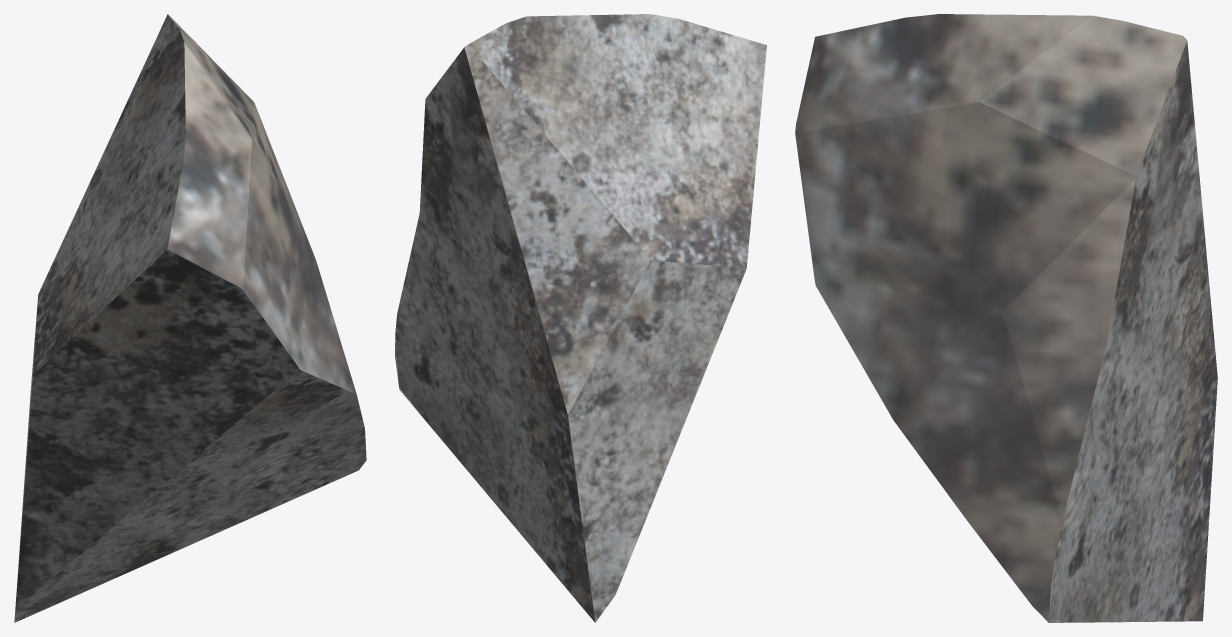
Rendered from Asteroid_Medium_001_02_006_03_001.fbx.
3 views of the same model, side by side, from view 1: azimuth 30°, elevation 25°; view 2: azimuth 150°, elevation 25°; view 3: azimuth 270°, elevation 25° (orthographic). The views are drawn at different scales.
Visible parts, largest first — view 1: Asteroid_Medium_001_02_006_03_001; view 2: Asteroid_Medium_001_02_006_03_001; view 3: Asteroid_Medium_001_02_006_03_001.
Boxes of the visible parts, <box> form: Asteroid_Medium_001_02_006_03_001: <box>14,14,366,622</box>; Asteroid_Medium_001_02_006_03_001: <box>395,14,766,622</box>; Asteroid_Medium_001_02_006_03_001: <box>795,14,1217,622</box>.
Size of the model in its own units: 7.74 by 12.29 by 6.99.
